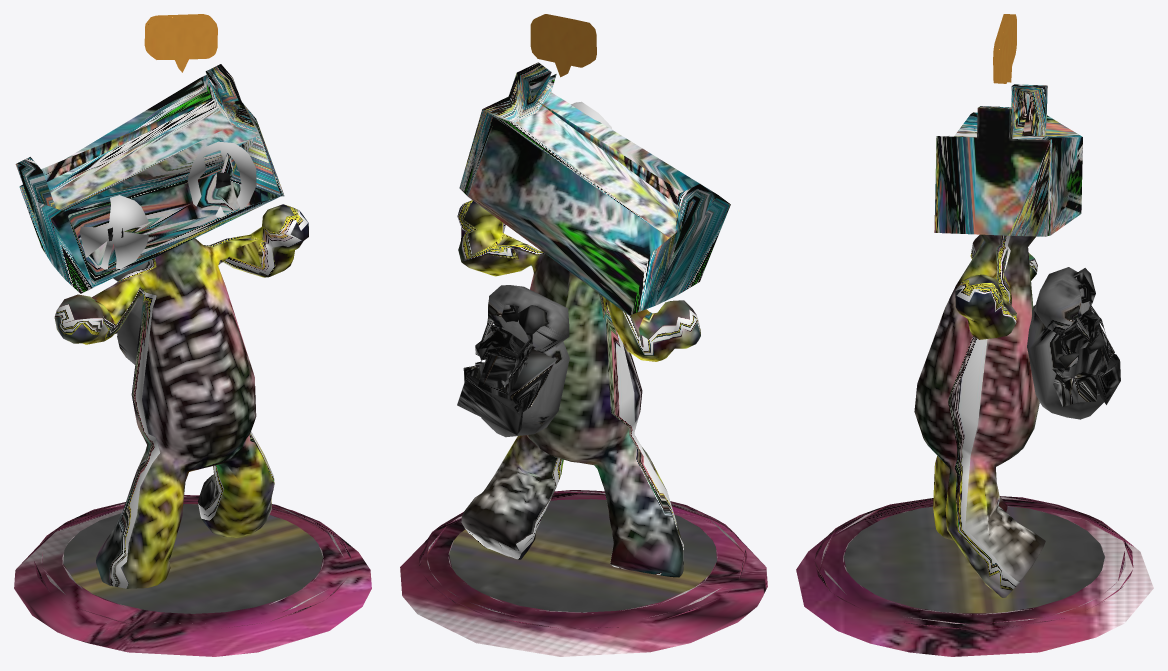
3 views of the same model, side by side, from view 1: azimuth 30°, elevation 25°; view 2: azimuth 150°, elevation 25°; view 3: azimuth 270°, elevation 25° (orthographic). The views are drawn at different scales.
Size of the model in its own units: 1.44 by 2.47 by 1.44.
Materials: 8 (6 with a texture image).
